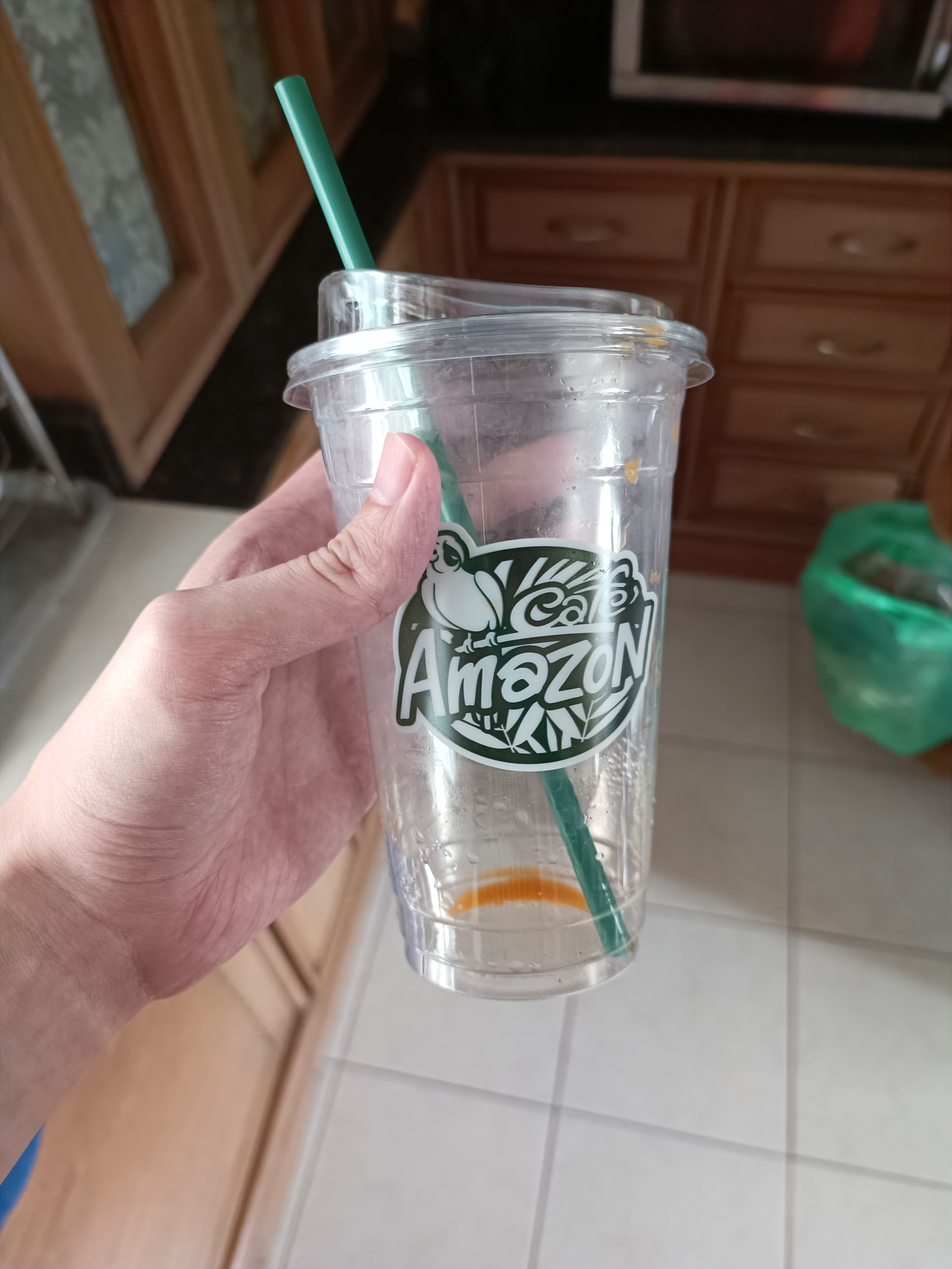plastic: (222, 62, 737, 1017)
